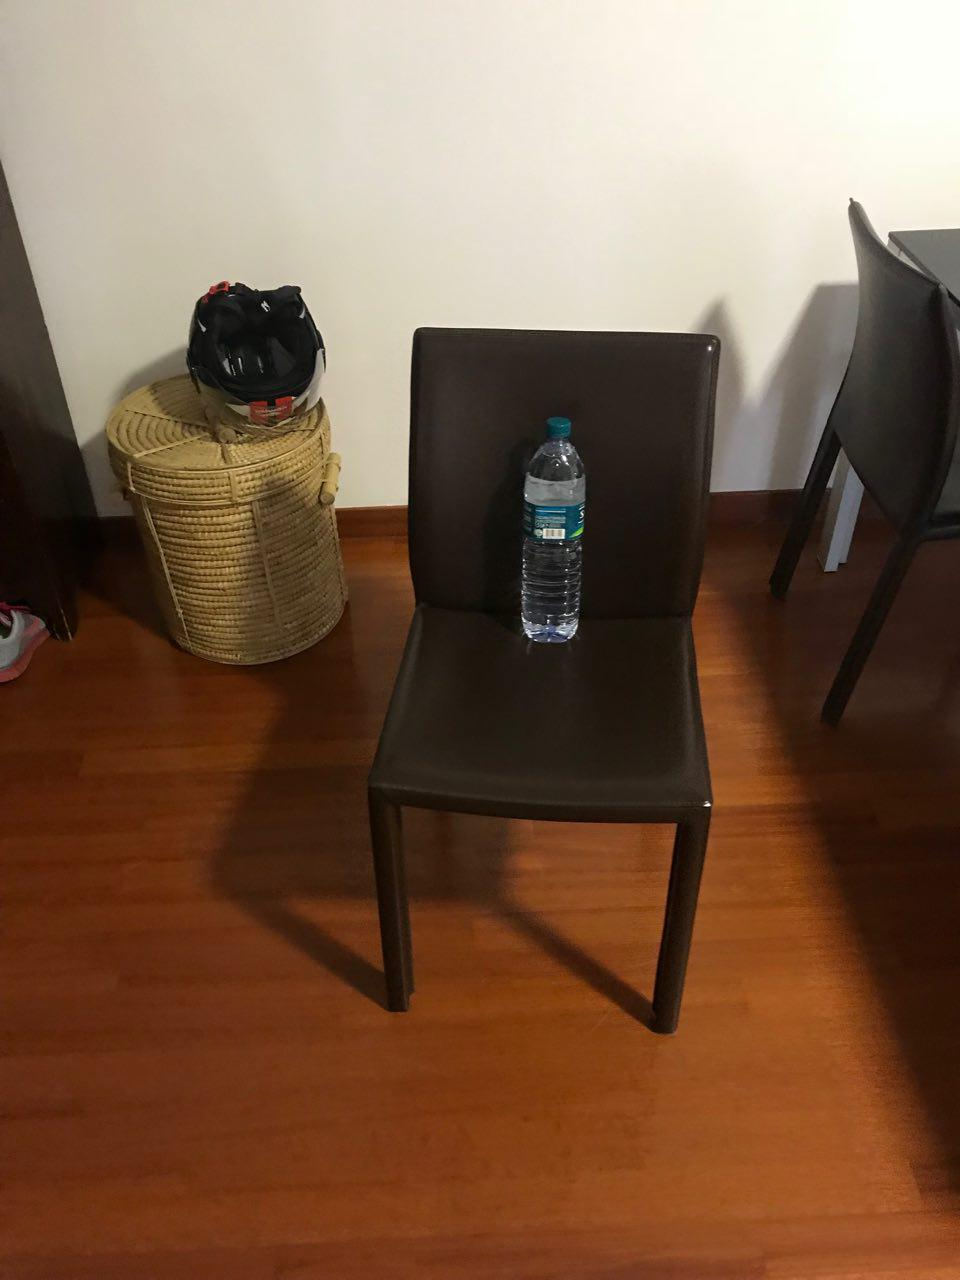san_bernardo: (520, 417, 585, 642)
